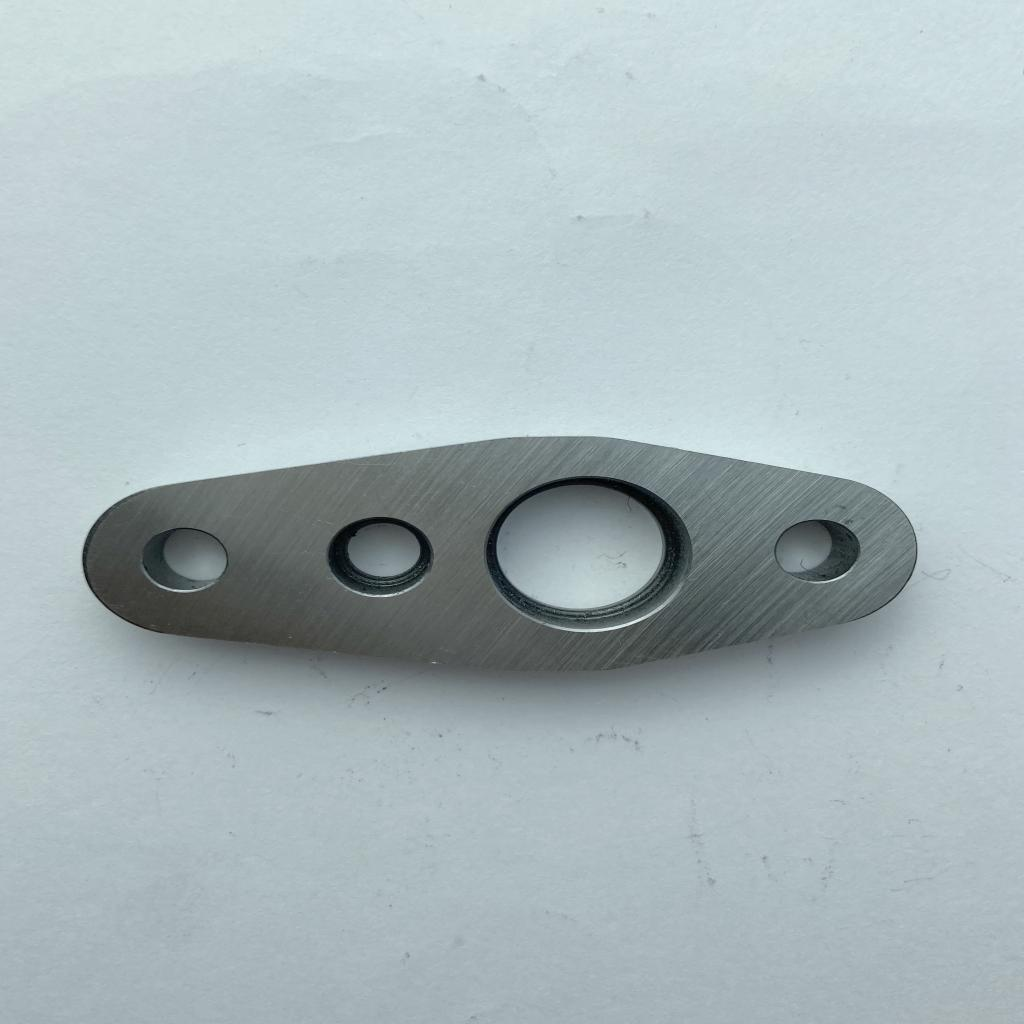chap: (318, 518, 336, 526), (428, 660, 440, 666)
